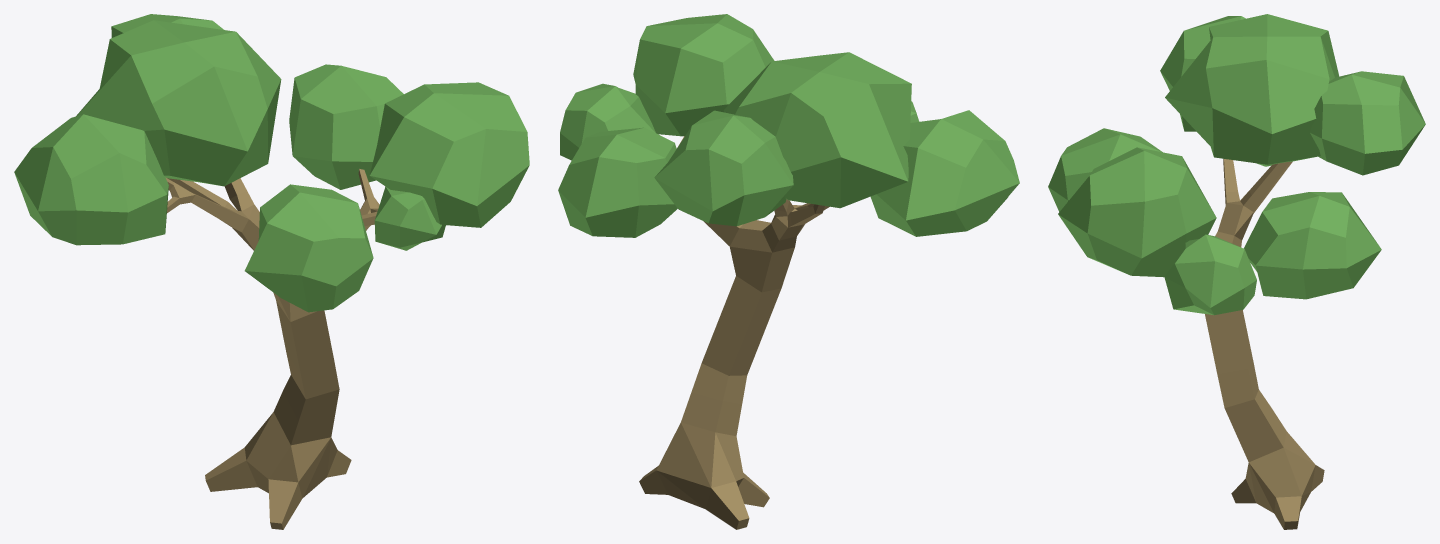
Rendered from AveraTree2.fbx.
3 views of the same model, side by side, from view 1: azimuth 30°, elevation 25°; view 2: azimuth 150°, elevation 25°; view 3: azimuth 270°, elevation 25° (orthographic). The views are drawn at different scales.
Visible parts, largest first — view 1: Leaves2.6, TreeTrunk2, Leaves2.2, Leaves2.7, Leaves2.1, Leaves2.5, Leaves2.4, Leaves2.8; view 2: TreeTrunk2, Leaves2.6, Leaves2.7, Leaves2.2, Leaves2.8, Leaves2.5, Leaves2.3; view 3: Leaves2.6, Leaves2.2, TreeTrunk2, Leaves2.5, Leaves2.8, Leaves2.3, Leaves2.1, Leaves2.7.
Part boxes in pixels (bbox=[...]): Leaves2.6: bbox=[76, 20, 281, 186]; TreeTrunk2: bbox=[165, 169, 379, 529]; Leaves2.2: bbox=[369, 82, 529, 227]; Leaves2.7: bbox=[14, 114, 168, 245]; Leaves2.1: bbox=[244, 184, 373, 312]; Leaves2.5: bbox=[289, 64, 403, 189]; Leaves2.4: bbox=[374, 186, 445, 250]; Leaves2.8: bbox=[111, 14, 223, 37]; TreeTrunk2: bbox=[639, 136, 829, 529]; Leaves2.6: bbox=[723, 52, 911, 208]; Leaves2.7: bbox=[870, 110, 1019, 236]; Leaves2.2: bbox=[633, 14, 774, 136]; Leaves2.8: bbox=[654, 110, 793, 226]; Leaves2.5: bbox=[558, 127, 677, 237]; Leaves2.3: bbox=[560, 83, 655, 160]; Leaves2.6: bbox=[1165, 14, 1339, 166]; Leaves2.2: bbox=[1058, 147, 1216, 277]; TreeTrunk2: bbox=[1205, 158, 1324, 529]; Leaves2.5: bbox=[1244, 192, 1381, 299]; Leaves2.8: bbox=[1310, 71, 1425, 175]; Leaves2.3: bbox=[1164, 234, 1256, 315]; Leaves2.1: bbox=[1048, 128, 1162, 211]; Leaves2.7: bbox=[1160, 16, 1245, 131].
Size of the model in its own units: 1670 by 1616 by 1280.
